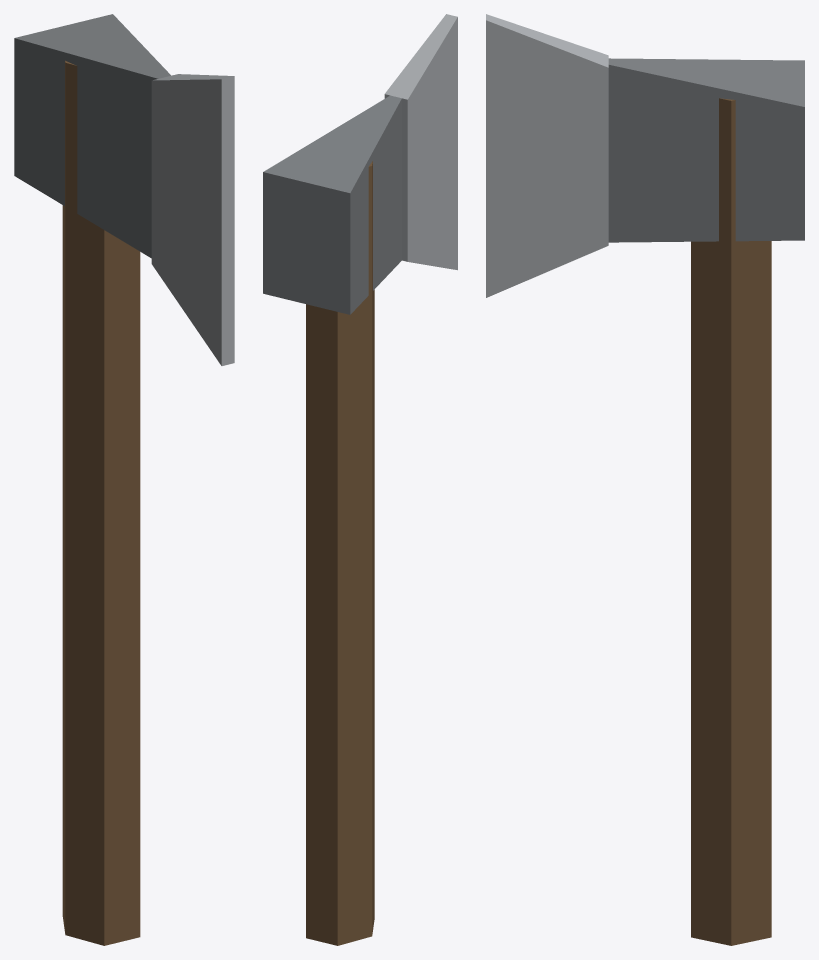
The model's file is axe.glb.
3 renders of one model, left to right at view 1: azimuth 30°, elevation 25°; view 2: azimuth 150°, elevation 25°; view 3: azimuth 270°, elevation 25°, orthographic. The views are drawn at different scales.
Parts seen in each view (by area): view 1: axe; view 2: axe; view 3: axe.
Boxes of the visible parts, x1,y1,x2,y2 form: axe: (14,14,234,945); axe: (263,14,457,945); axe: (486,14,804,945).
Size of the model in its own units: 0.09 by 0.82 by 0.26.
